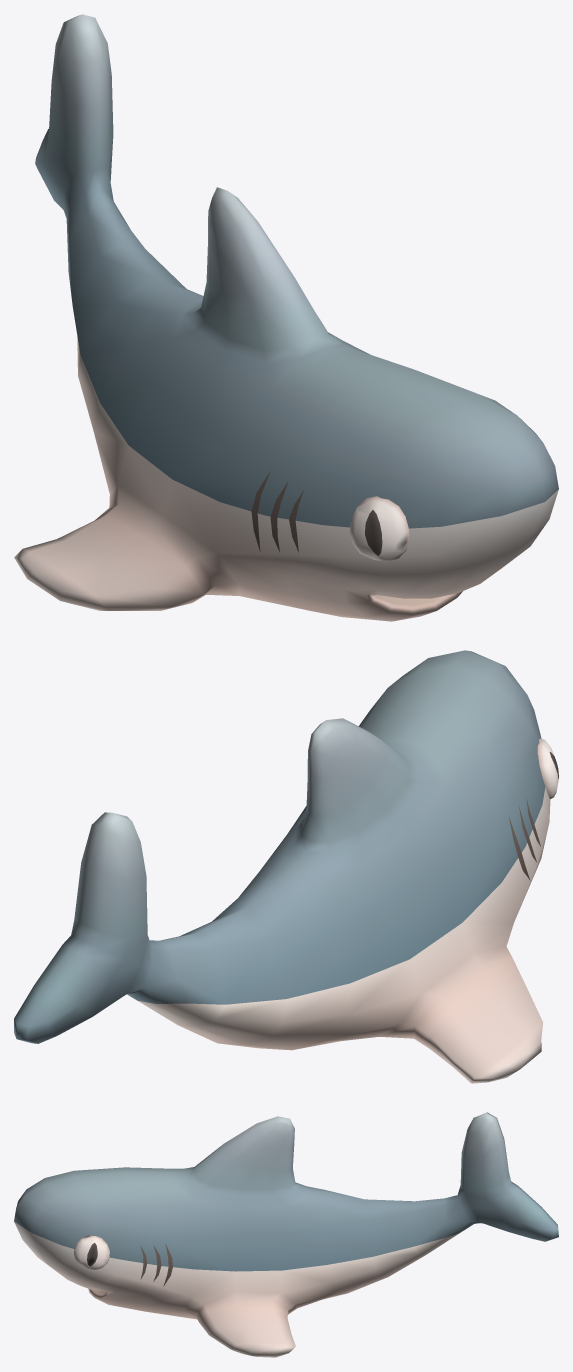
The model's file is shark.fbx.
3 renders of one model, top to bottom at view 1: azimuth 30°, elevation 25°; view 2: azimuth 150°, elevation 25°; view 3: azimuth 270°, elevation 25°, orthographic. The views are drawn at different scales.
Visible parts, largest first — view 1: shark; view 2: shark; view 3: shark.
Boxes of the visible parts, x1,y1,x2,y2 form: shark: (14,14,558,621); shark: (14,650,558,1083); shark: (14,1112,558,1357).
Size of the model in its own units: 34.16 by 29.51 by 70.82.
